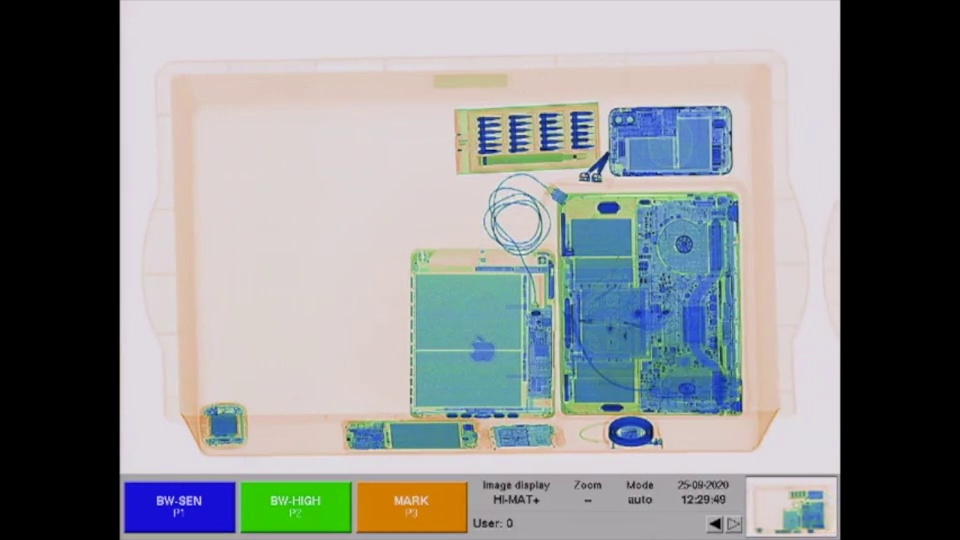tray_img: (138, 43, 823, 459)
